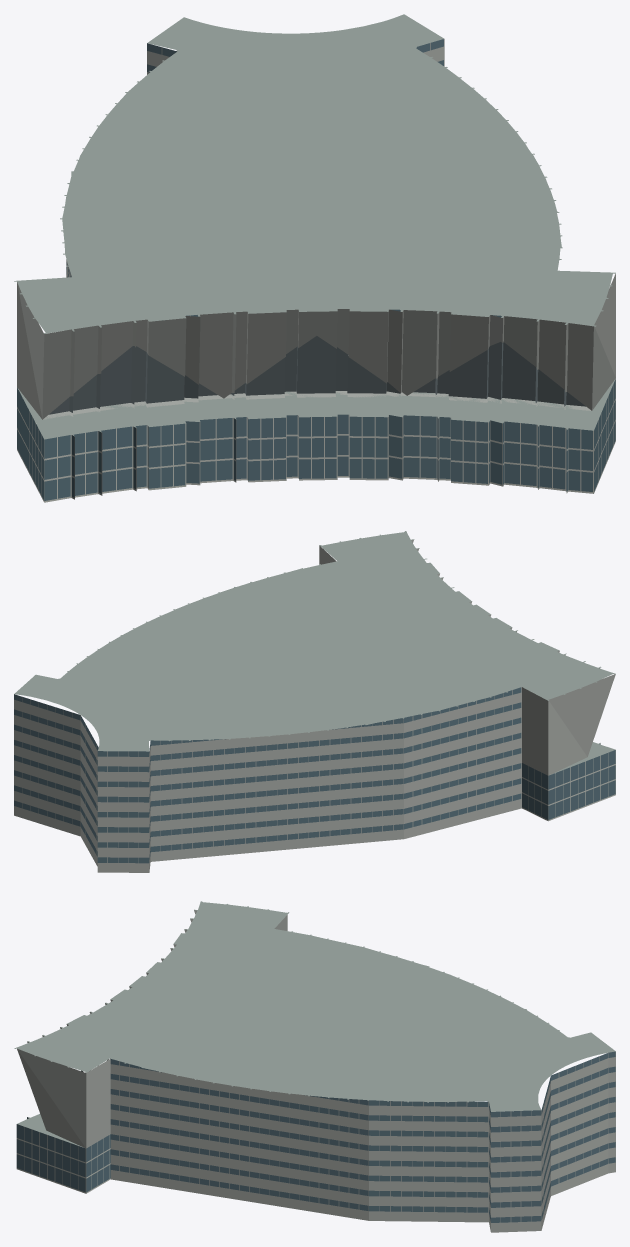
The model's file is palais-des-congres-paris-near.glb.
3 views of the same model, one above another, from view 1: azimuth 30°, elevation 25°; view 2: azimuth 150°, elevation 25°; view 3: azimuth 270°, elevation 25° (orthographic). The views are drawn at different scales.
Parts seen in each view (by area): view 1: palais-des-congres-paris-0-roof, palais-des-congres-paris-0-panel, palais-des-congres-paris-0-glass, palais-des-congres-paris-0-cut, palais-des-congres-paris-0-frame; view 2: palais-des-congres-paris-0-roof, palais-des-congres-paris-0-panel, palais-des-congres-paris-0-glass, palais-des-congres-paris-0-frame; view 3: palais-des-congres-paris-0-roof, palais-des-congres-paris-0-panel, palais-des-congres-paris-0-glass, palais-des-congres-paris-0-frame.
Boxes of the visible parts, x1,y1,x2,y2 form: palais-des-congres-paris-0-roof: (14,14,615,439); palais-des-congres-paris-0-panel: (17,39,615,419); palais-des-congres-paris-0-glass: (17,39,615,500); palais-des-congres-paris-0-cut: (49,336,585,414); palais-des-congres-paris-0-frame: (17,378,615,502); palais-des-congres-paris-0-roof: (14,531,615,774); palais-des-congres-paris-0-panel: (14,540,615,872); palais-des-congres-paris-0-glass: (14,687,615,863); palais-des-congres-paris-0-frame: (522,743,615,821); palais-des-congres-paris-0-roof: (14,901,615,1147); palais-des-congres-paris-0-panel: (17,910,615,1232); palais-des-congres-paris-0-glass: (16,1051,615,1222); palais-des-congres-paris-0-frame: (16,1127,110,1193).
Bounding box in the file's own units: 150 × 40 × 181.
